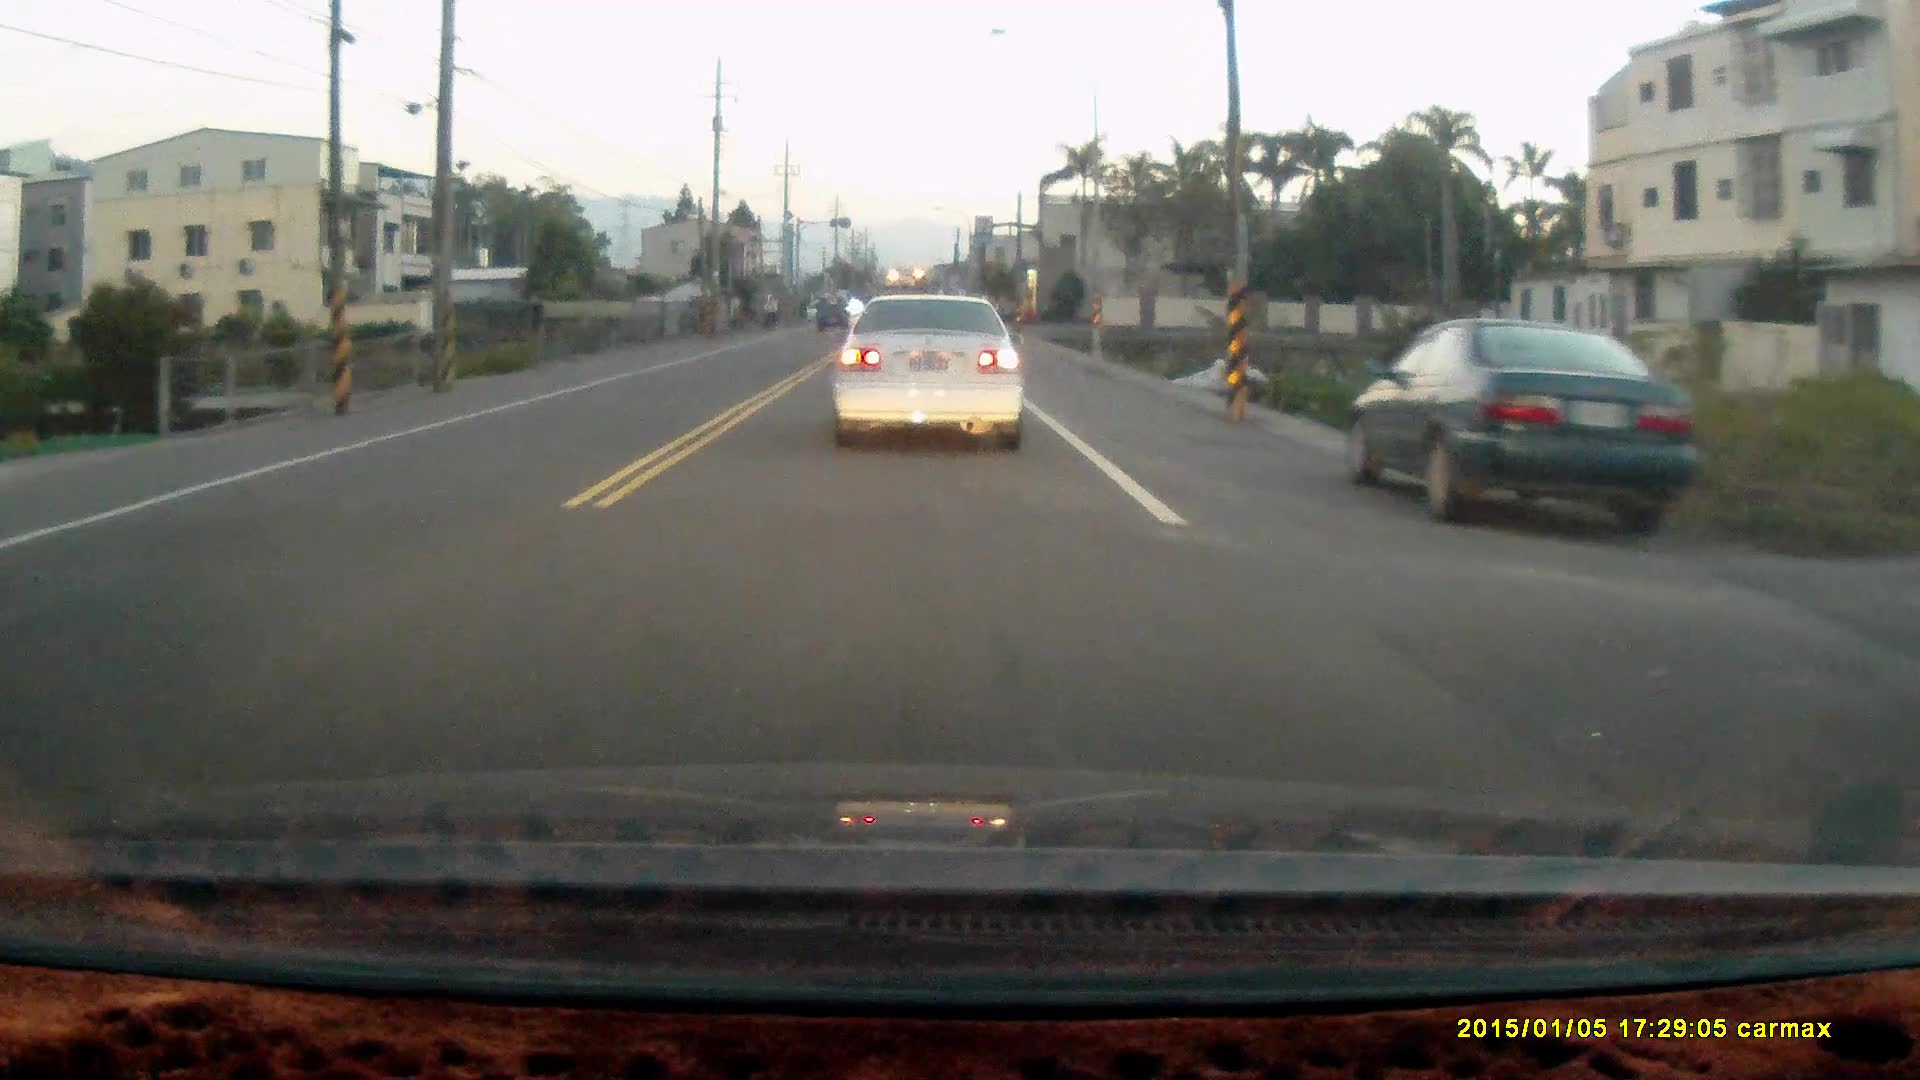vehicle: (1341, 320, 1710, 524), (833, 287, 1029, 439), (816, 295, 852, 334)
